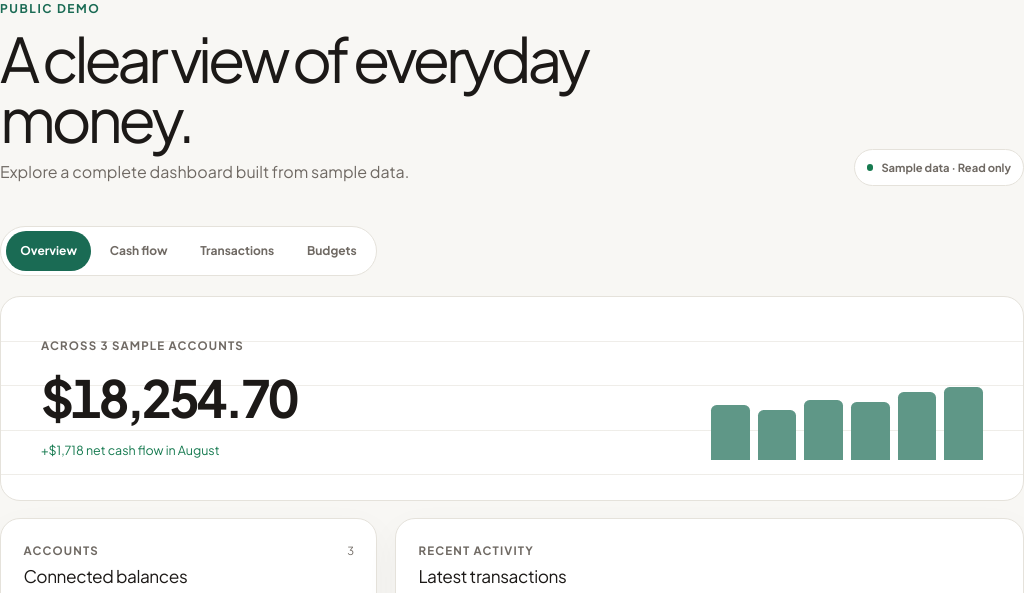
DemoDashboard › filters sample transactions and returns focus after clearing
Press the mouse on the tab "Transactions": (237, 251) [186, 231, 289, 271]
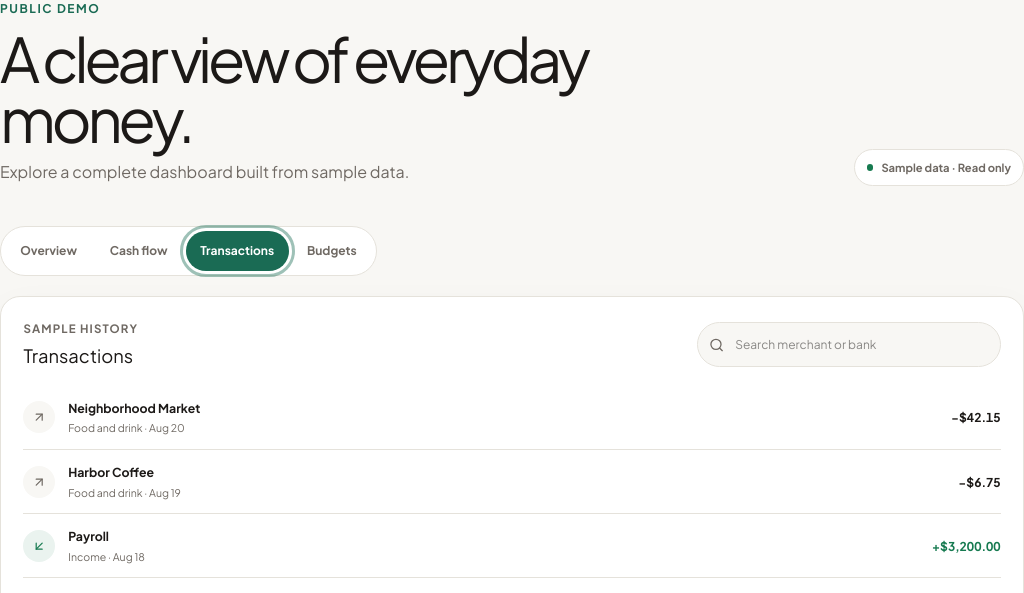
In the search field named "Search transactions": (849, 345) [697, 322, 1001, 367], type "not a merchant"
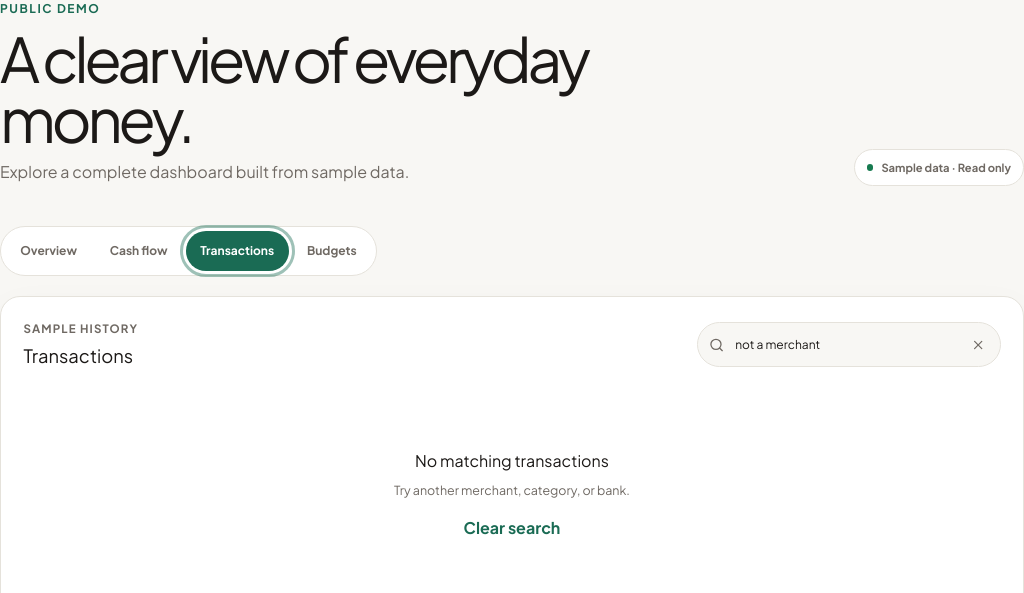
Expected: the heading "No matching transactions" is shown, [415, 450, 609, 471]
Click the button "Clear search": click(512, 528) [464, 516, 560, 540]
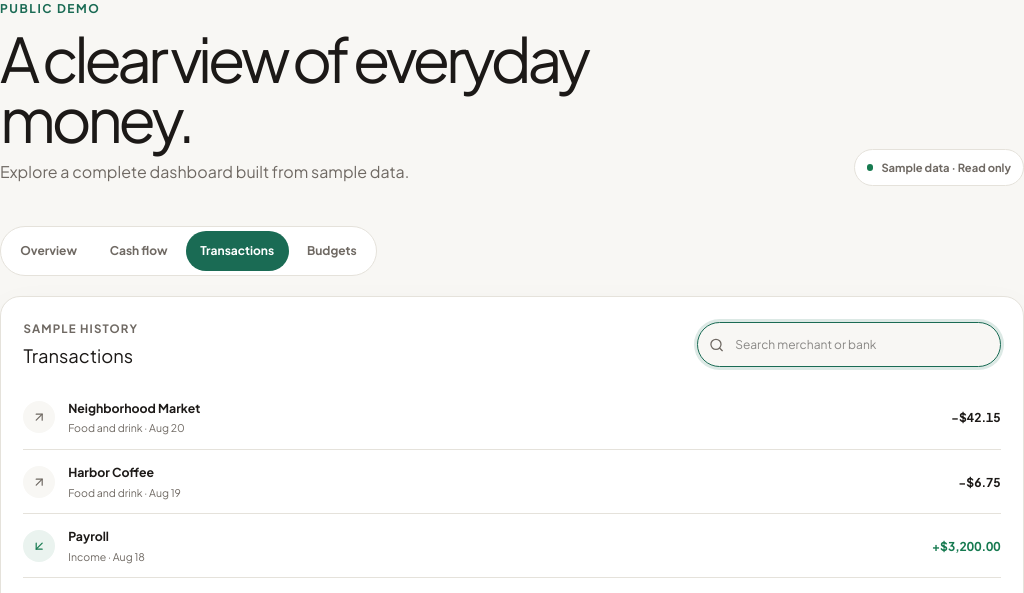
Expected: the text "Neighborhood Market" is shown, [68, 400, 200, 416]
